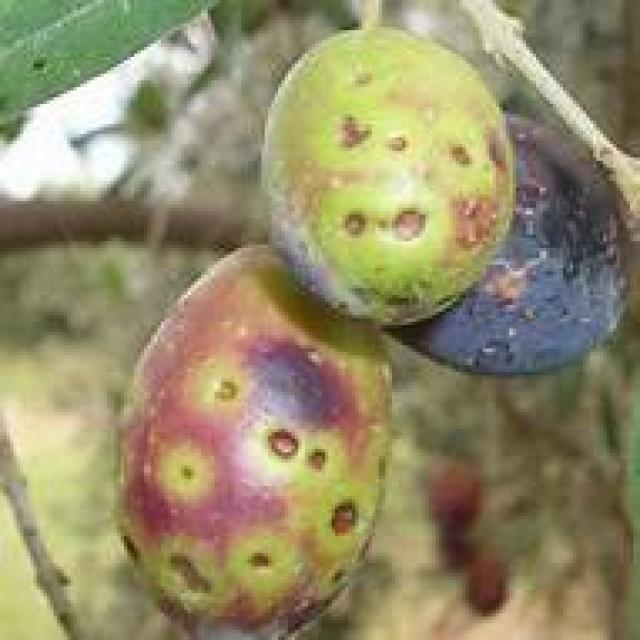Olive Fruit Fly: (117, 245, 389, 637), (265, 27, 513, 322), (415, 117, 623, 372)
